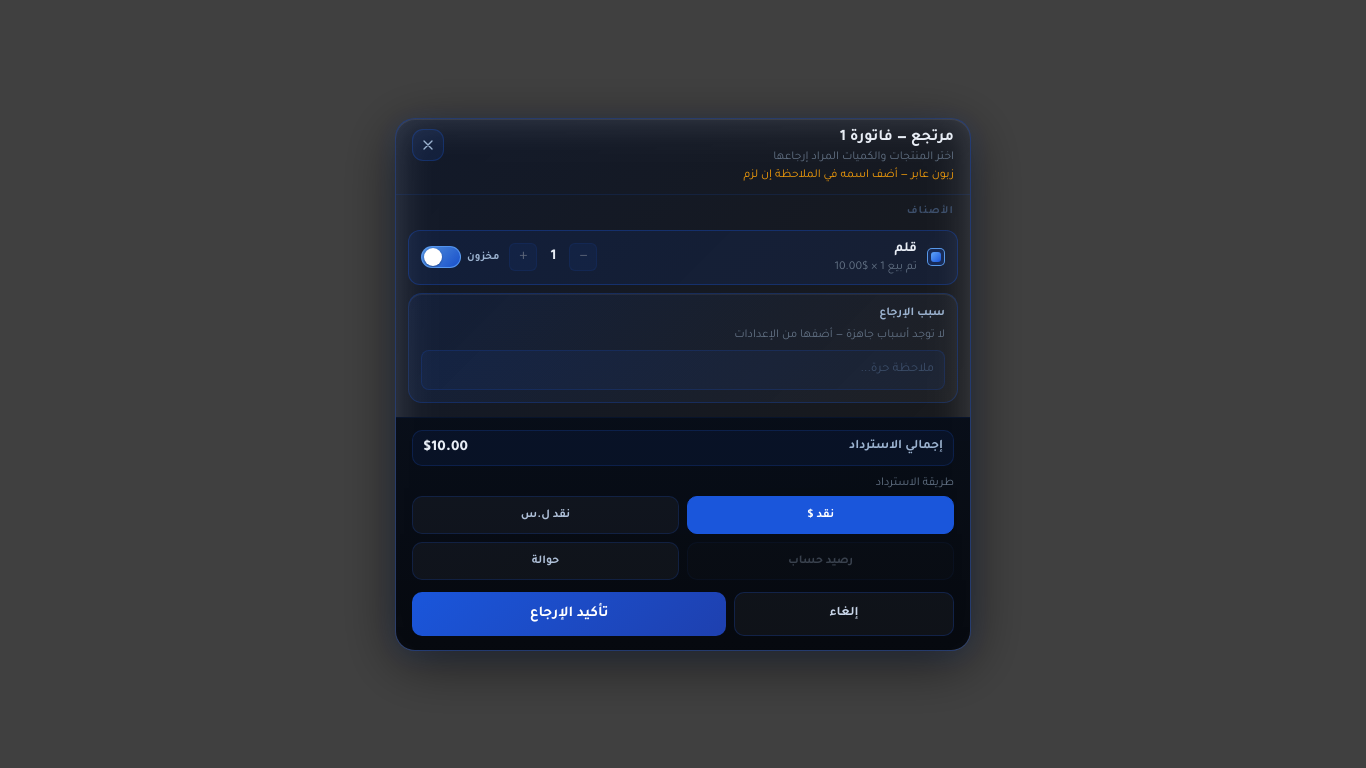
Test: ReturnSheet — WAFI-010 plan-warning handling › hides the confirm/cancel buttons after a successful confirm() with a warning, preventing a duplicate refund
The width and height of the screenshot is (1366, 768).
Click the button with class "btn-confirm": (569, 614) [412, 592, 726, 636]
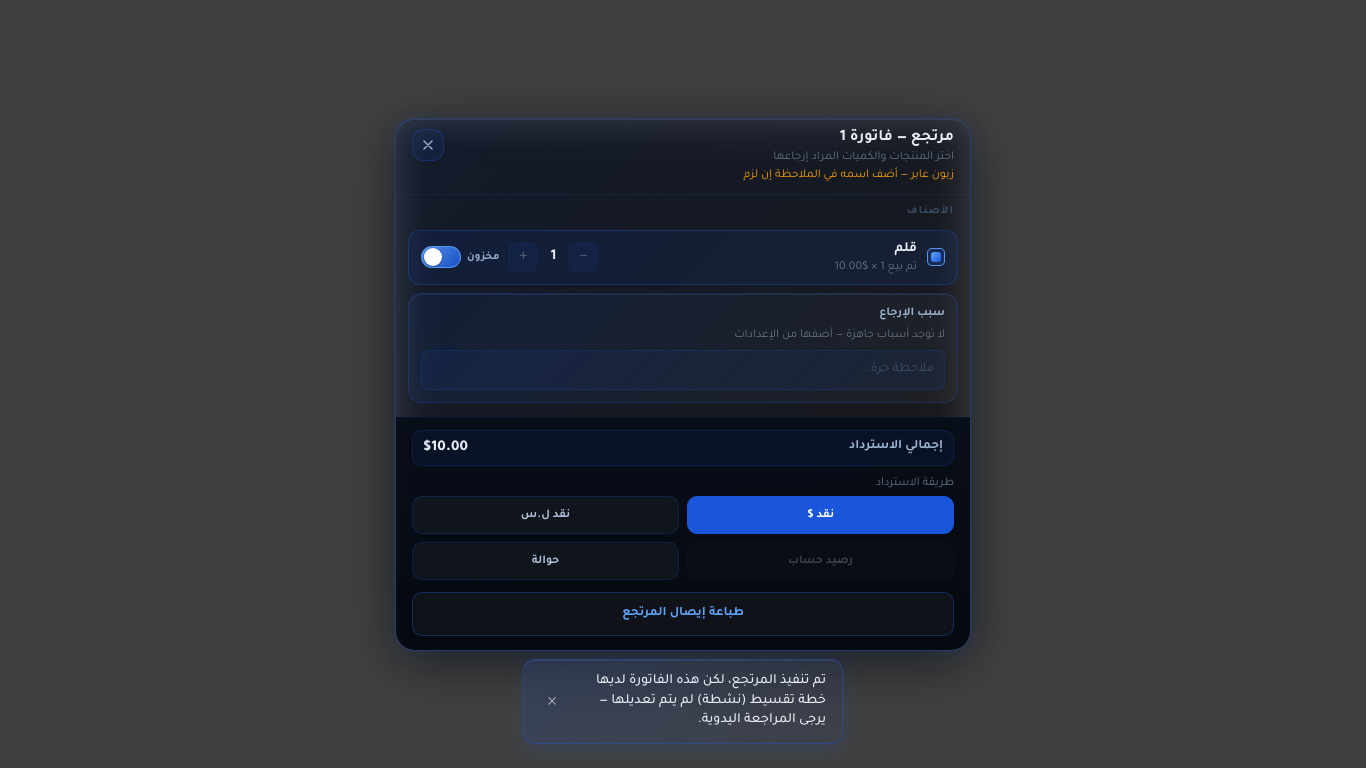
expect the element showing "طباعة إيصال المرتجع" is shown: met, box [412, 592, 954, 636]
